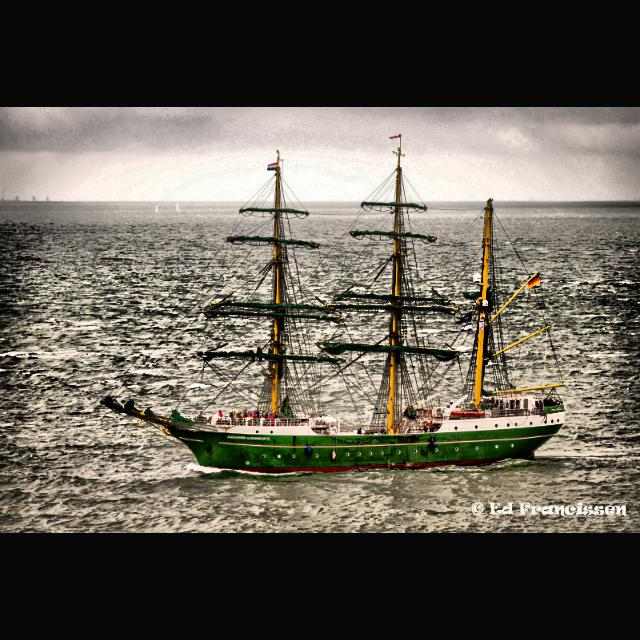sailing_vessel: (99, 129, 566, 477)
